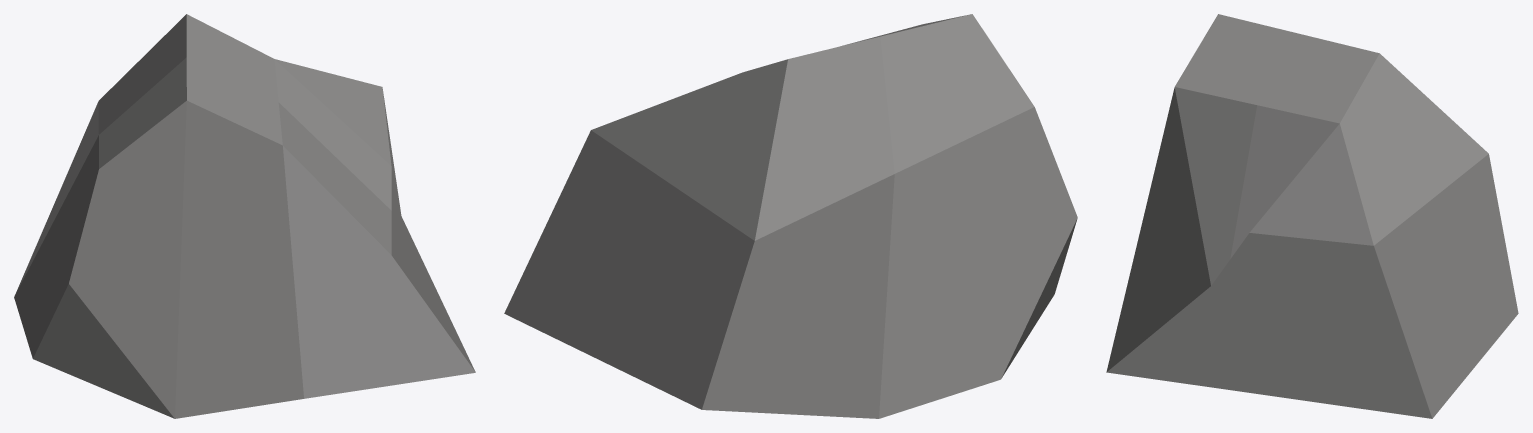
The model's file is stoneMedium.fbx.
The picture shows the model from 3 angles, left to right: view 1: azimuth 30°, elevation 25°; view 2: azimuth 150°, elevation 25°; view 3: azimuth 270°, elevation 25°; orthographic projection. The views are drawn at different scales.
Parts seen in each view (by area): view 1: stoneMedium; view 2: stoneMedium; view 3: stoneMedium.
Boxes of the visible parts, <box> form: stoneMedium: <box>14,14,475,418</box>; stoneMedium: <box>504,14,1077,418</box>; stoneMedium: <box>1106,14,1518,418</box>.
Size of the model in its own units: 58.3 by 35.65 by 51.74.
Materials: 1 (1 with a texture image).
